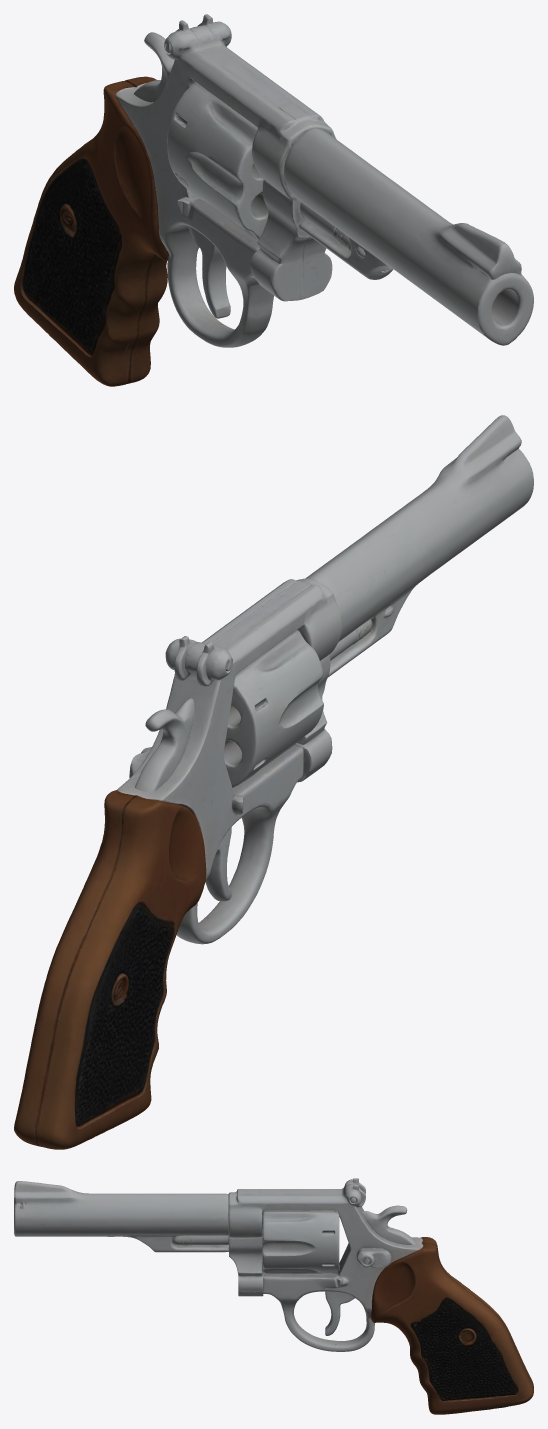
File: revolver.glb
The picture shows the model from 3 angles, top to bottom: view 1: azimuth 30°, elevation 25°; view 2: azimuth 150°, elevation 25°; view 3: azimuth 270°, elevation 25°; orthographic projection. The views are drawn at different scales.
Parts seen in each view (by area): view 1: model; view 2: model; view 3: model.
Part boxes in pixels (<box>): model: <box>14,14,533,386</box>; model: <box>14,415,533,1149</box>; model: <box>14,1178,533,1414</box>.
Bounding box in the file's own units: 0.2121 × 0.9253 × 1.9.
Materials: 1 (1 with a texture image).
